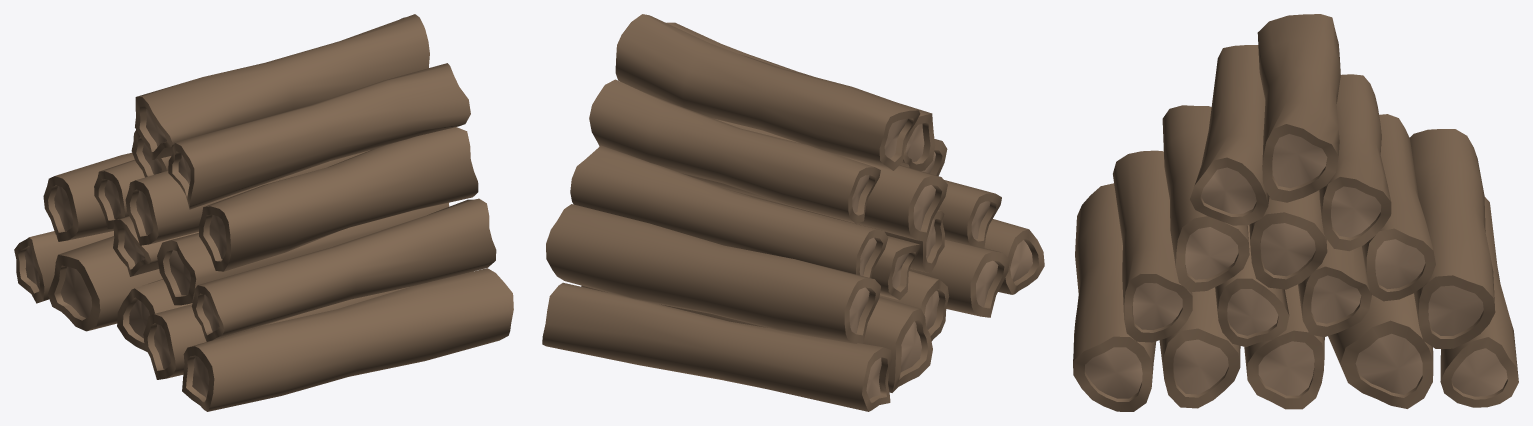
Rendered from P_woodlog_01_LD.fbx.
3 renders of one model, left to right at view 1: azimuth 30°, elevation 25°; view 2: azimuth 150°, elevation 25°; view 3: azimuth 270°, elevation 25°, orthographic. The views are drawn at different scales.
Visible parts, largest first — view 1: P_Woodlog_01; view 2: P_Woodlog_01; view 3: P_Woodlog_01.
Part boxes in pixels (box(x1,y1,x2,y2)): P_Woodlog_01: box(14, 14, 513, 411); P_Woodlog_01: box(542, 14, 1044, 411); P_Woodlog_01: box(1073, 14, 1518, 411).
Size of the model in its own units: 79.15 by 61.84 by 85.9.
